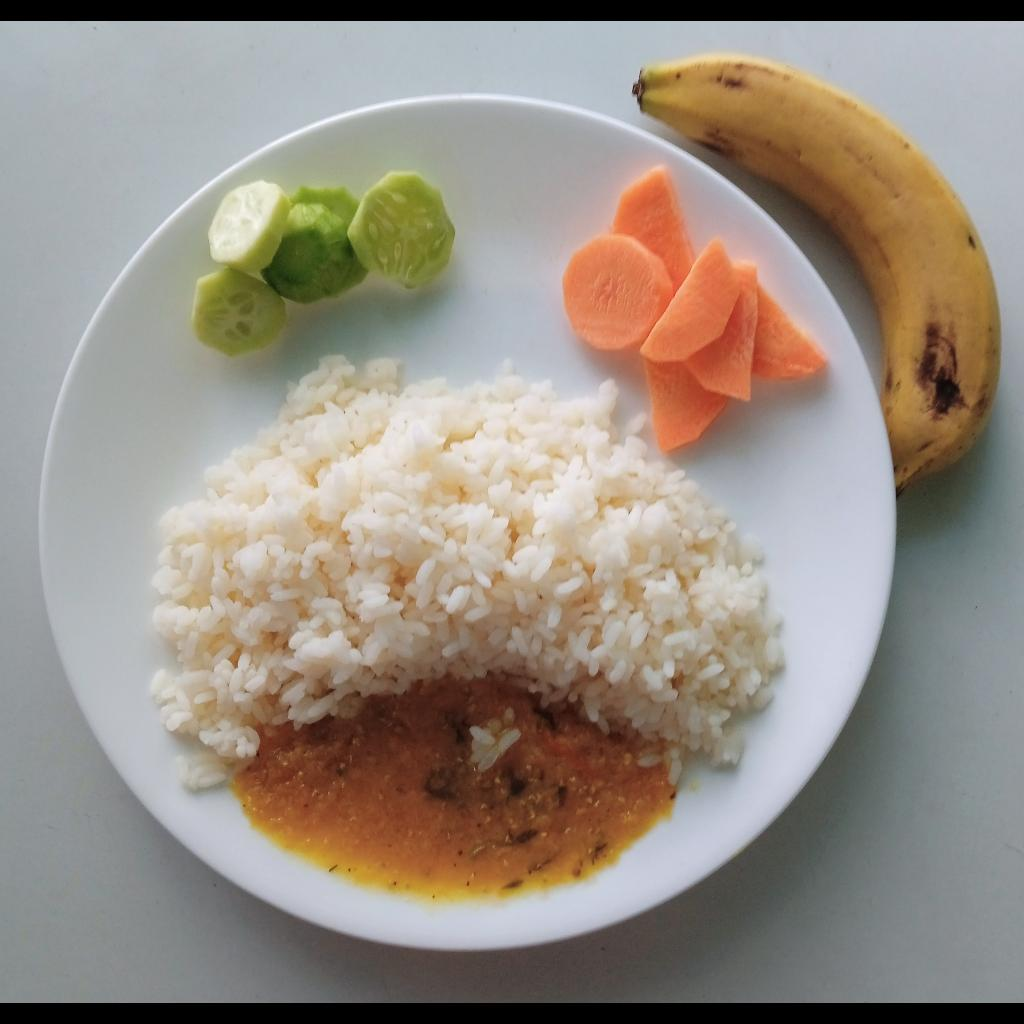banana: (630, 54, 1001, 500)
carrot: (563, 165, 831, 455)
cucumber: (190, 171, 456, 357)
daal: (231, 680, 677, 904)
rice: (152, 355, 785, 792)
